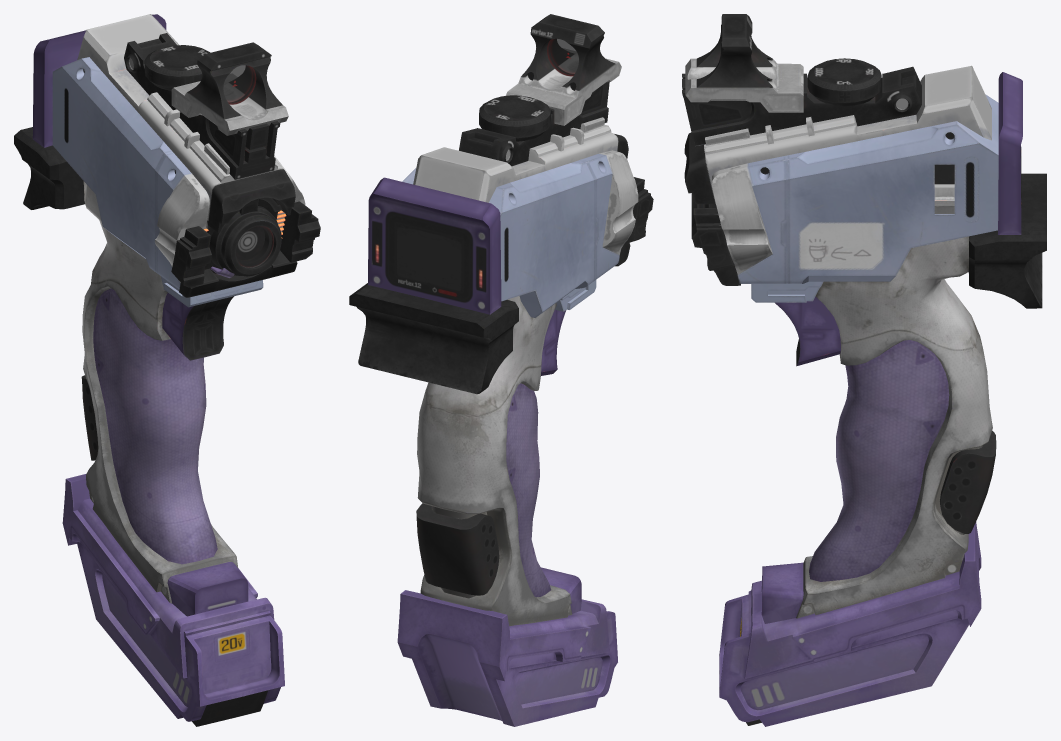
The picture shows the model from 3 angles, left to right: view 1: azimuth 30°, elevation 25°; view 2: azimuth 150°, elevation 25°; view 3: azimuth 270°, elevation 25°; orthographic projection. The views are drawn at different scales.
Visible parts, largest first — view 1: Body_Low, Reticle_Low, Scroller_Low; view 2: Body_Low, Scroller_Low, Reticle_Low; view 3: Body_Low, Scroller_Low, Switch_Low.
Boxes of the visible parts, x1,y1,x2,y2 form: Body_Low: (14, 14, 320, 726); Reticle_Low: (223, 65, 273, 267); Scroller_Low: (145, 45, 210, 90); Body_Low: (349, 14, 653, 726); Scroller_Low: (479, 95, 550, 141); Reticle_Low: (547, 38, 578, 76); Body_Low: (682, 14, 1046, 726); Scroller_Low: (807, 58, 881, 106); Switch_Low: (934, 184, 954, 213).
Bounding box in the file's own units: 7.95 × 37.62 × 18.18.
1 material, 1 textured.
